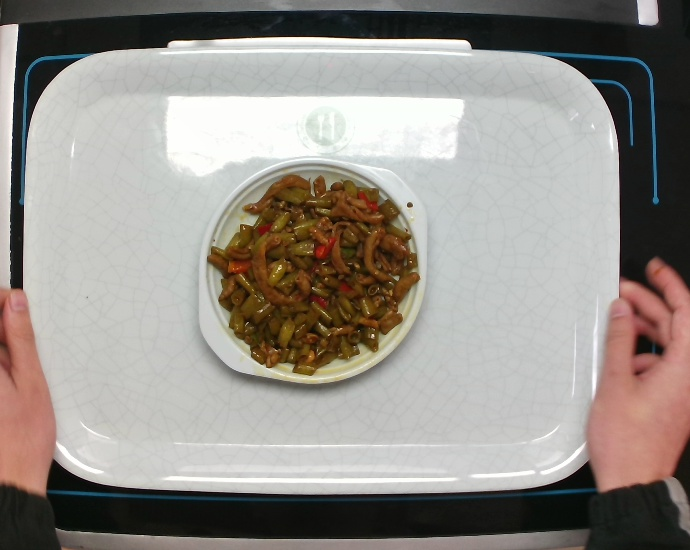JYsf-Shuang_Er_Pan: (193, 155, 437, 389)
